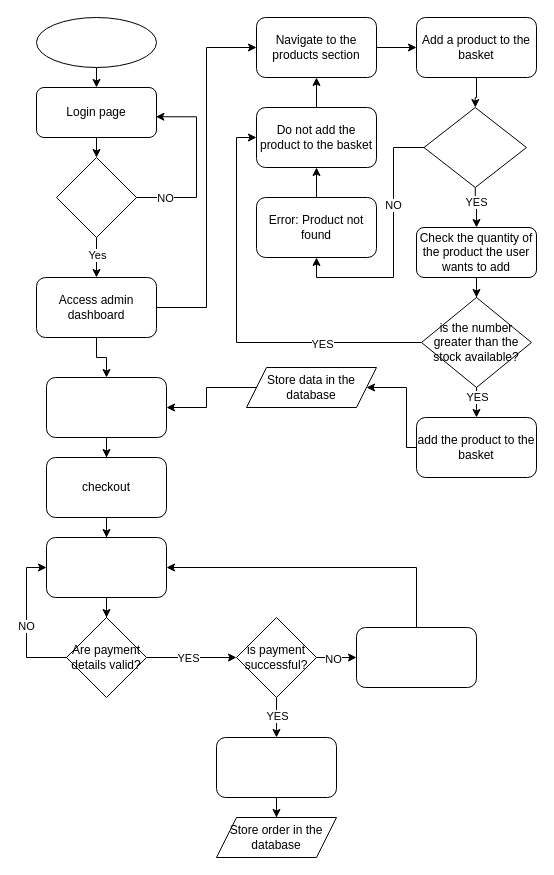
Some shapes in this 554 by 875 pixel diagram are drawn without their labels. Each missing label, with the centre of its shape:
Is the product in stock?: point (474, 147)
Is the user logged in?: point (96, 197)
Make user enter payment details: point (106, 567)
Navigate to the basket: point (106, 407)
Order is successful: point (276, 767)
Order is unsuccessful: point (416, 657)
START: point (96, 42)
